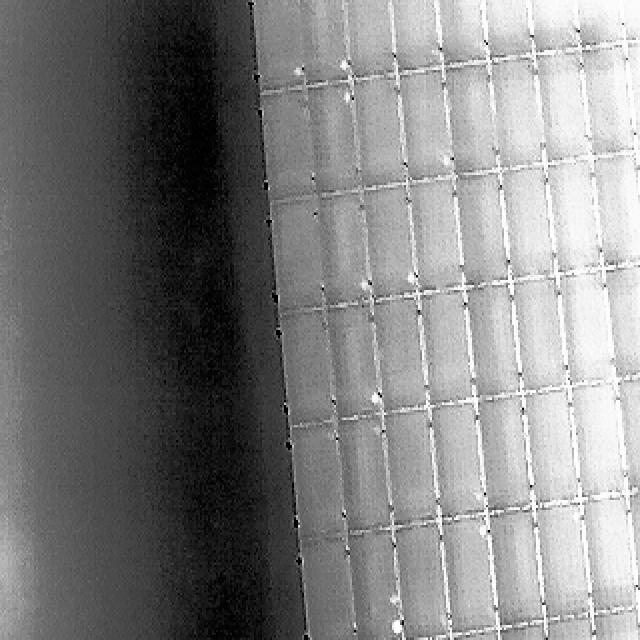Hotspots: (382, 615, 402, 640), (286, 61, 304, 85), (364, 384, 382, 405)
PV-modules: (422, 405, 490, 522), (564, 381, 631, 498), (520, 388, 586, 506), (486, 510, 550, 629), (463, 285, 528, 402), (440, 514, 503, 634), (382, 412, 446, 530), (356, 186, 422, 300), (551, 272, 615, 389), (511, 279, 575, 395), (535, 505, 598, 622), (471, 393, 534, 510), (313, 196, 377, 311), (578, 498, 640, 616), (394, 522, 456, 640), (395, 72, 458, 186), (418, 290, 478, 408), (337, 418, 397, 536), (276, 308, 336, 426), (368, 298, 429, 414), (546, 159, 606, 276), (340, 527, 402, 640), (408, 179, 469, 293), (290, 425, 349, 542), (441, 64, 502, 177), (499, 165, 558, 281), (487, 60, 547, 174), (245, 0, 320, 89), (328, 305, 386, 420), (457, 173, 515, 287), (259, 88, 316, 204), (347, 76, 405, 190), (537, 54, 595, 167), (300, 535, 362, 640), (309, 84, 366, 197), (268, 200, 323, 316), (581, 48, 637, 161), (282, 0, 352, 87), (590, 155, 640, 267), (598, 262, 640, 378), (342, 0, 399, 76), (389, 0, 449, 72), (424, 0, 490, 65), (474, 0, 539, 60), (612, 375, 640, 493), (518, 0, 580, 52), (567, 0, 630, 46), (620, 35, 640, 150), (626, 490, 640, 608), (592, 610, 640, 640), (544, 617, 604, 640), (614, 0, 640, 42), (498, 622, 556, 640), (634, 148, 640, 262), (452, 630, 514, 640), (634, 600, 640, 640)
